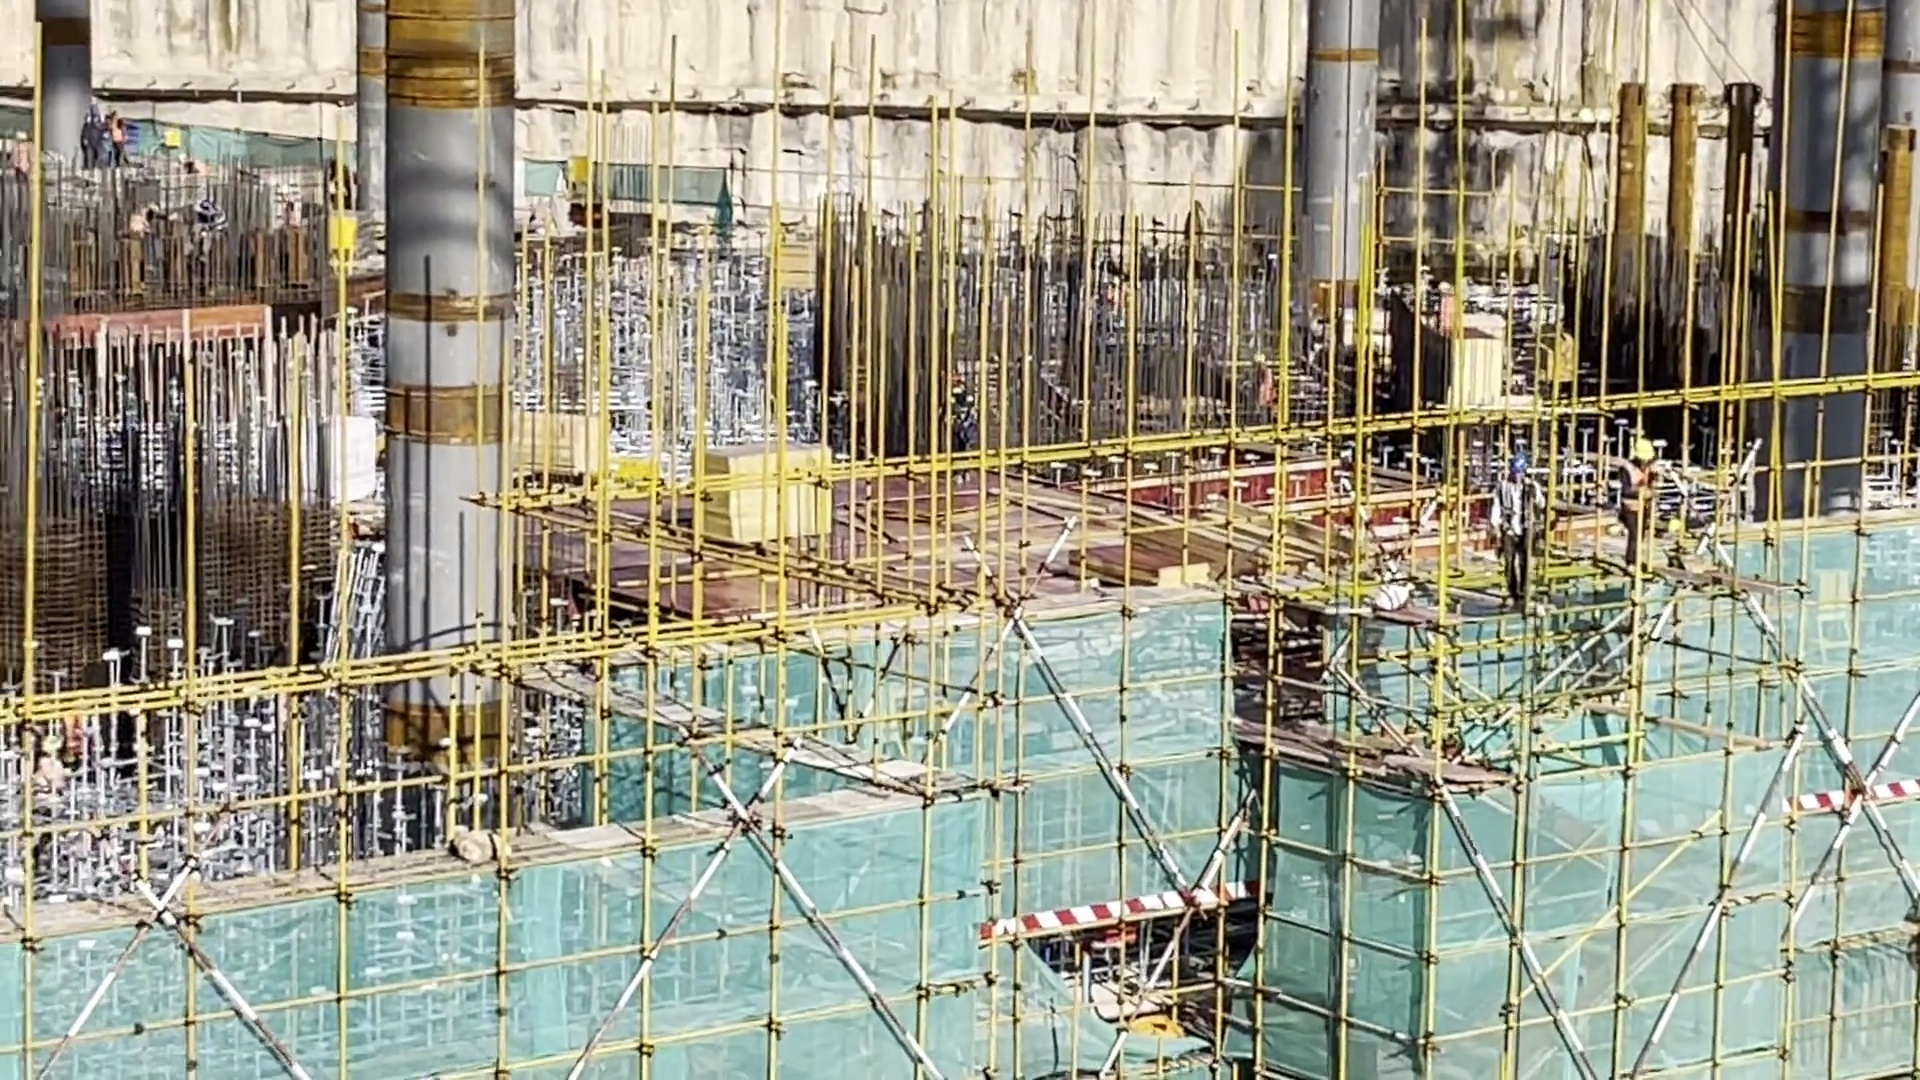helmet: (1632, 428, 1656, 472), (1503, 449, 1530, 477)
person: (1488, 440, 1546, 610), (1617, 434, 1665, 555)
vest: (1493, 476, 1537, 529), (1622, 467, 1655, 509)
